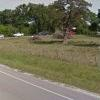Tree: (18, 2, 100, 35)
